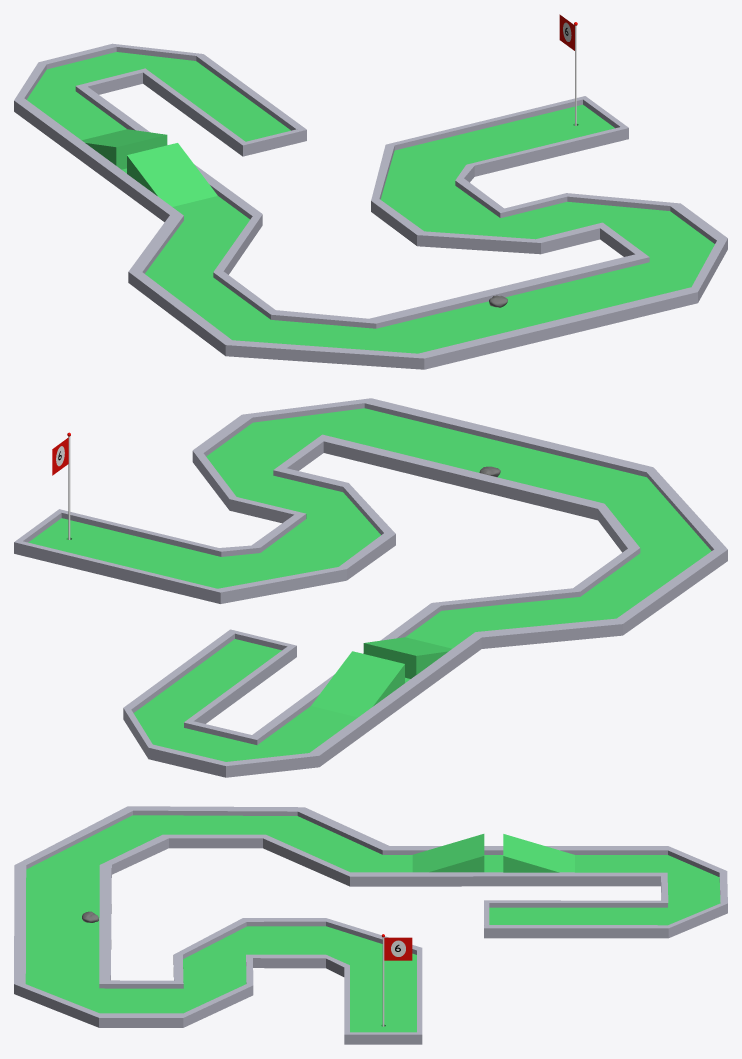
Rendered from bane5.fbx.
The picture shows the model from 3 angles, top to bottom: view 1: azimuth 30°, elevation 25°; view 2: azimuth 150°, elevation 25°; view 3: azimuth 270°, elevation 25°; orthographic projection. The views are drawn at different scales.
Visible parts, largest first — view 1: bane, Cube, Cube.002, rampe2, rampe, Cube.003; view 2: bane, Cube, Cube.002, rampe, rampe2; view 3: bane, Cube, Cube.002, rampe2, rampe, Cube.001, Cube.004.
Boxes of the visible parts, x1,y1,x2,y2 form: bane: (27, 52, 714, 353); Cube: (14, 43, 727, 369); Cube.002: (75, 68, 649, 328); rampe2: (127, 143, 217, 206); rampe: (82, 129, 167, 169); Cube.003: (240, 129, 306, 156); bane: (28, 408, 711, 761); Cube: (61, 398, 727, 777); Cube.002: (19, 434, 640, 744); rampe: (311, 651, 404, 717); rampe2: (363, 637, 451, 678); bane: (25, 815, 720, 1032); Cube: (14, 806, 727, 1032); Cube.002: (99, 834, 668, 1032); rampe2: (412, 834, 484, 872); rampe: (503, 834, 574, 872); Cube.001: (344, 1032, 422, 1044); Cube.004: (384, 937, 412, 960).
Bounding box in the file's own units: 641 × 127 × 846.
